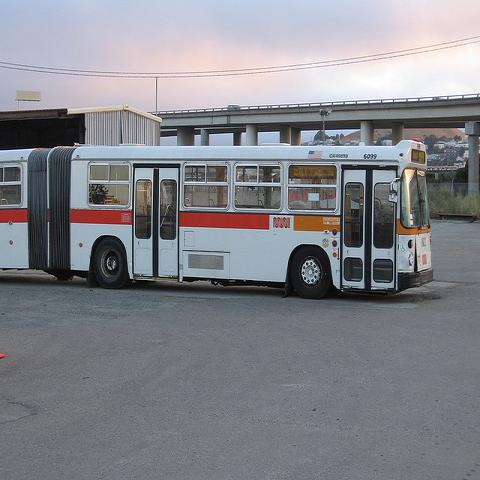bus: (1, 136, 434, 294)
